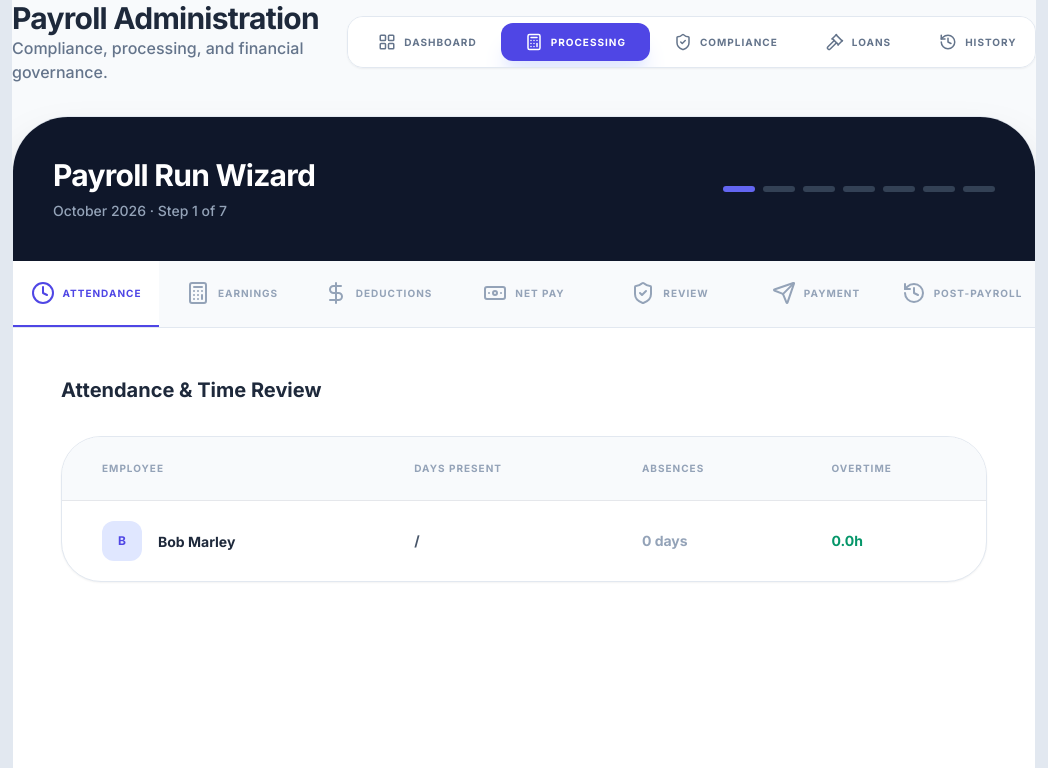
Test case: Payroll Run Wizard › blocks Submit and lists each red-severity exception on the Review step
This screenshot has width=1048, height=768.
Click the button "Review" at (670, 294), box [597, 261, 743, 327]
(page scrolled)
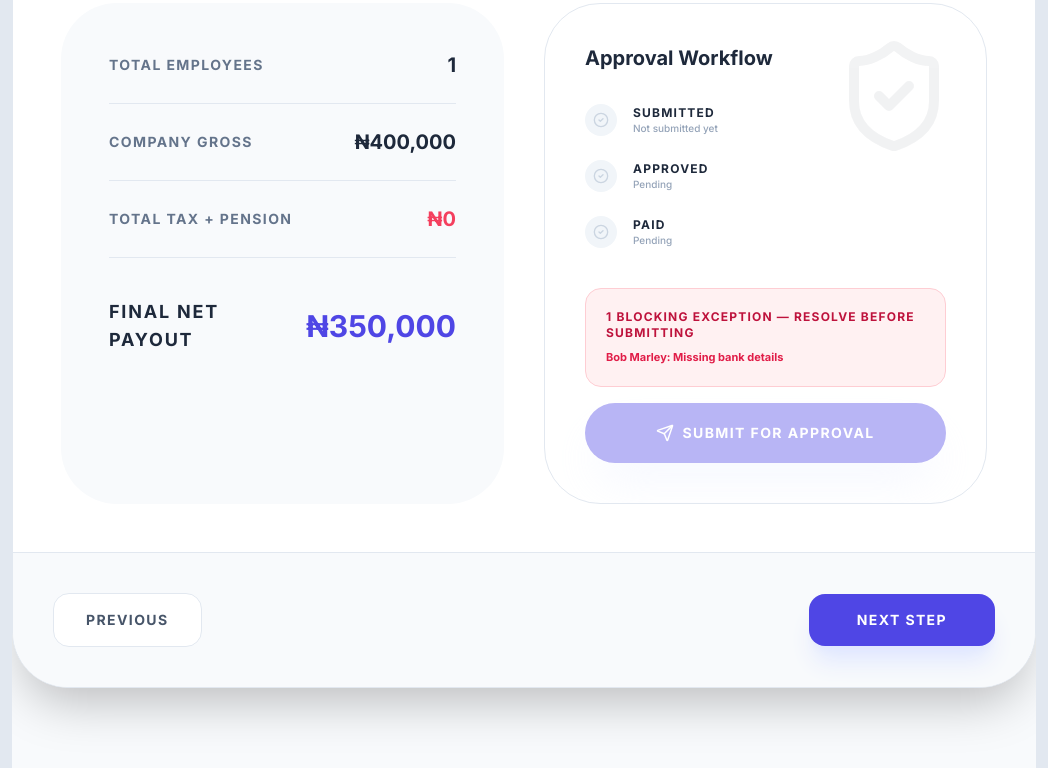
Expected: the text "1 blocking exception — resolve before submitting" is shown, [606, 309, 925, 341]
Expected: the list item "Bob Marley: Missing bank details" is shown, [606, 350, 783, 364]
Expected: the button "Submit for Approval" is disabled, [585, 402, 946, 462]
